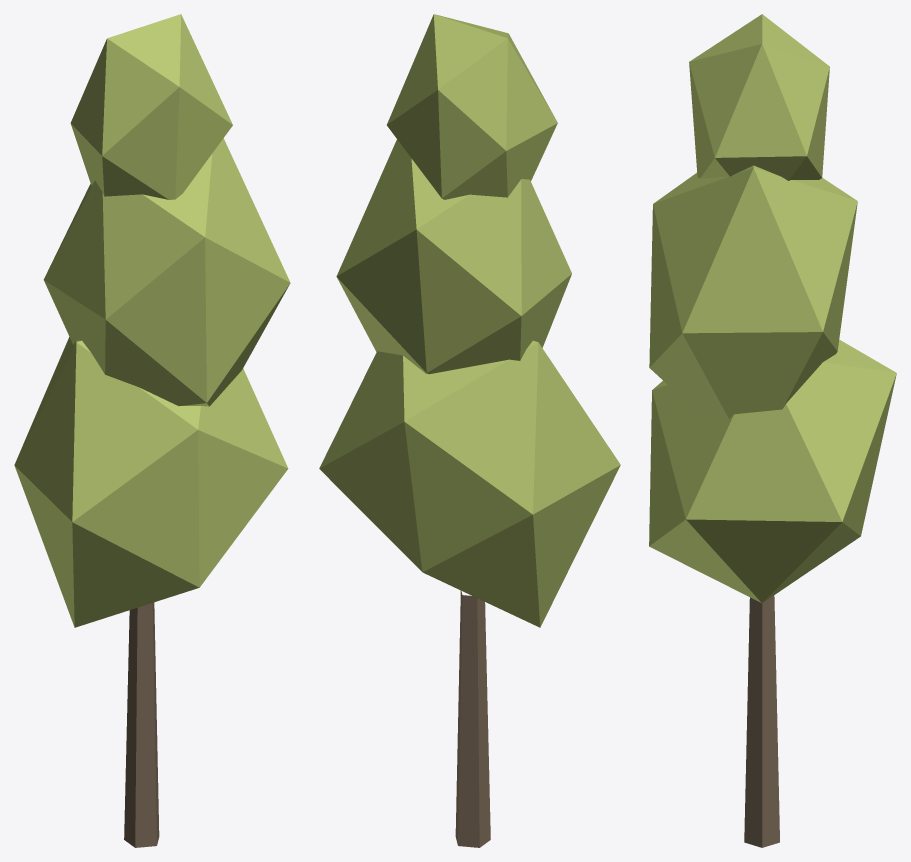
File: facet-tall.glb
3 views of the same model, side by side, from view 1: azimuth 30°, elevation 25°; view 2: azimuth 150°, elevation 25°; view 3: azimuth 270°, elevation 25° (orthographic).
Bounding box in the file's own units: 2.99 × 10.49 × 2.89.
